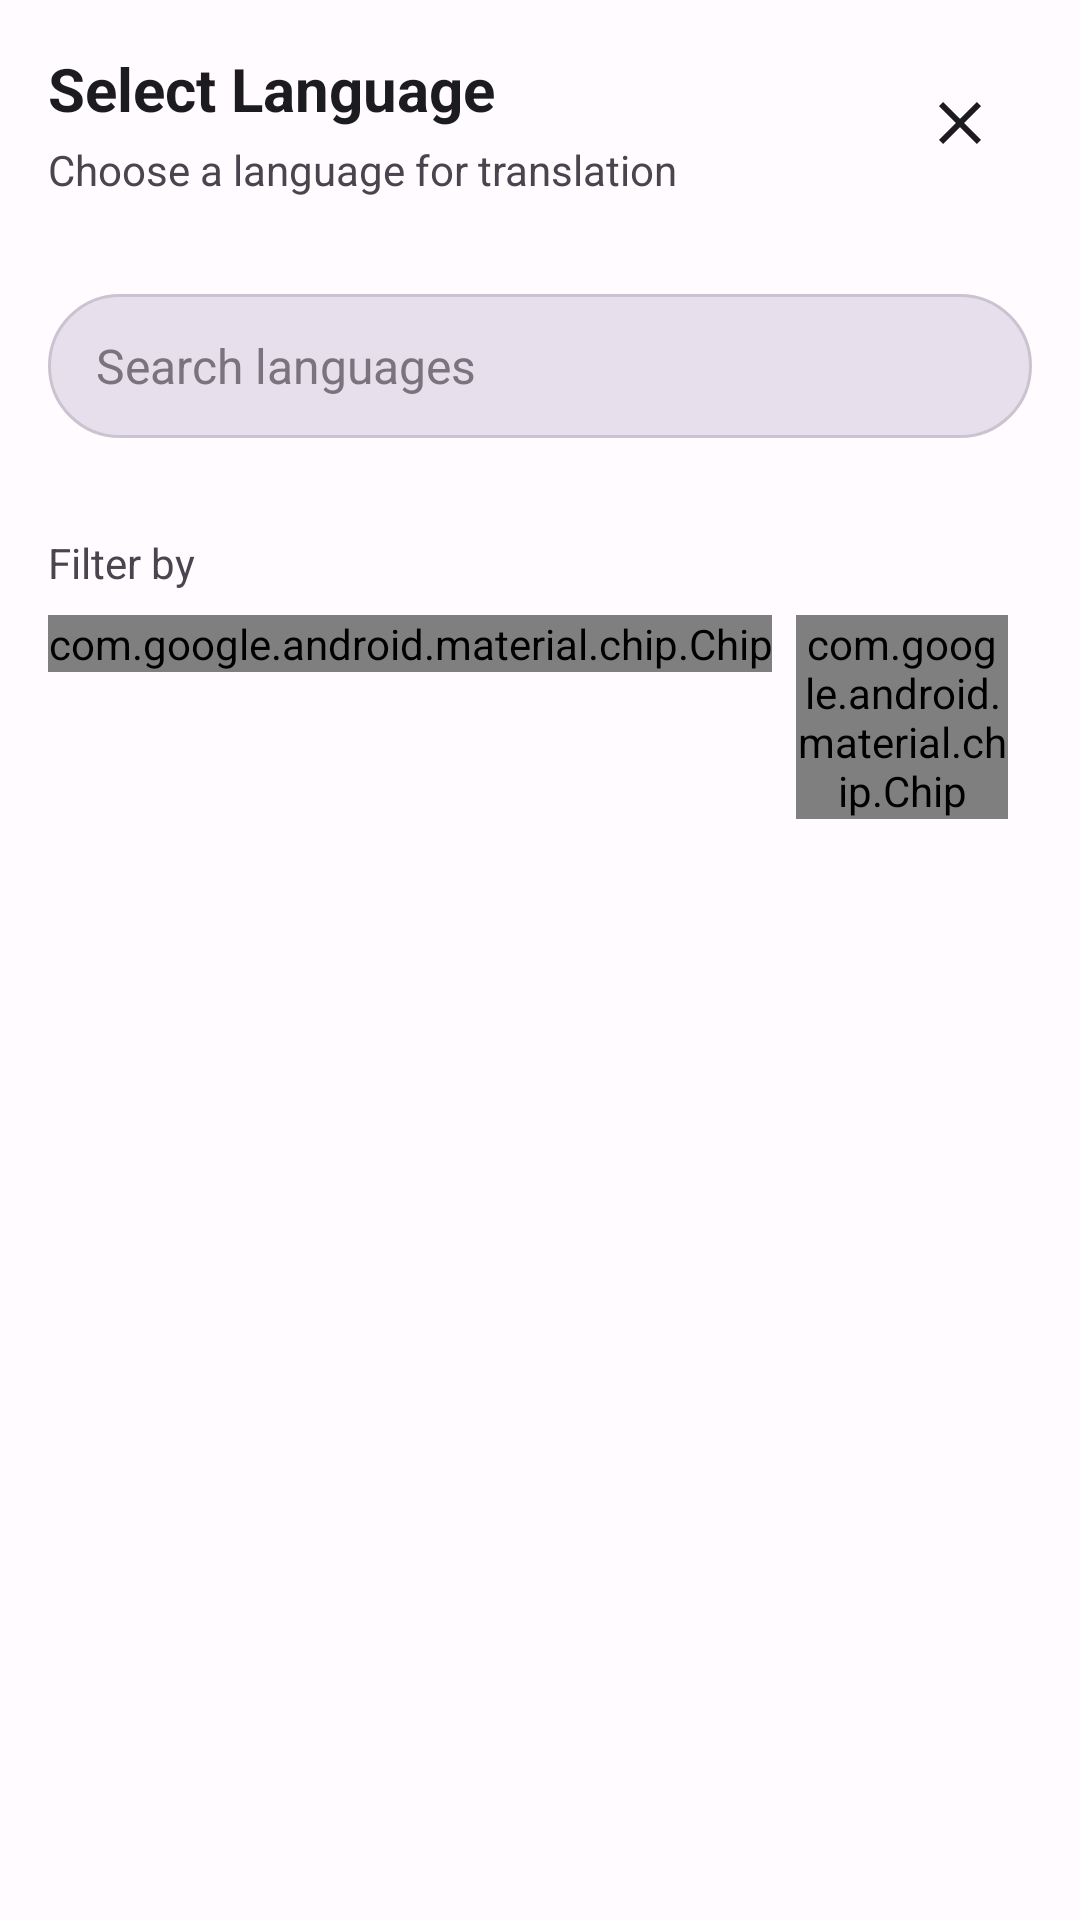

Named icons in this screenshot (1080px x 1920px) and their bounding boxes, (x1, y1, x2, y2):
Close language selection: (939, 102, 981, 144)
